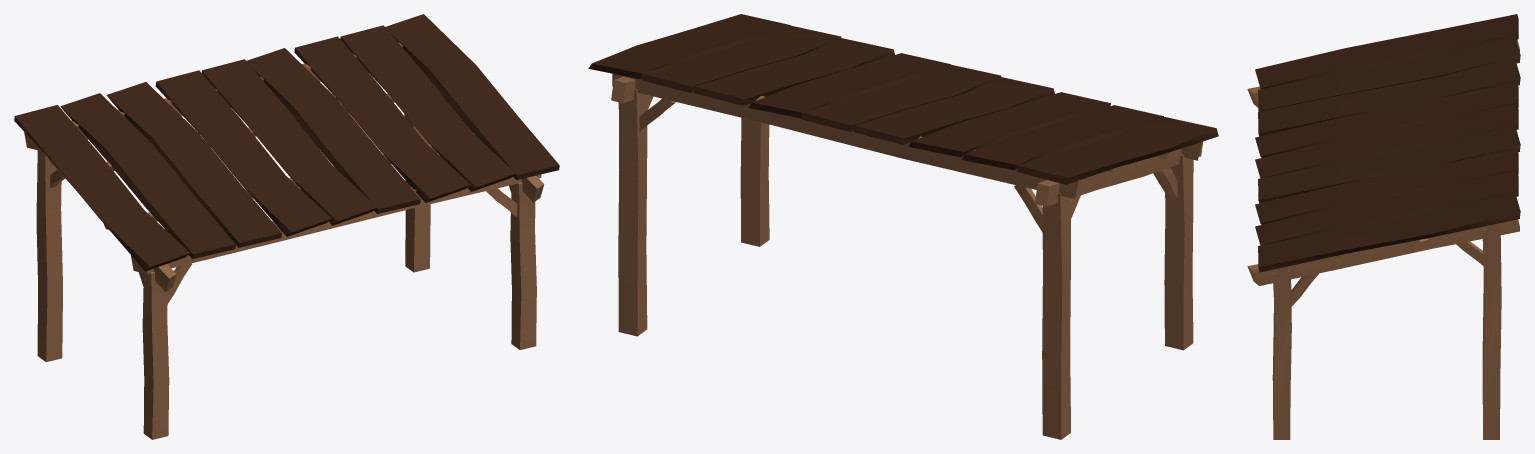
File: shelter.fbx
3 views of the same model, side by side, from view 1: azimuth 30°, elevation 25°; view 2: azimuth 150°, elevation 25°; view 3: azimuth 270°, elevation 25° (orthographic). The views are drawn at different scales.
Parts seen in each view (by area): view 1: shelter.027; view 2: shelter.027; view 3: shelter.027.
Boxes of the visible parts, bbox=[...] form: shelter.027: bbox=[14, 14, 559, 439]; shelter.027: bbox=[588, 14, 1218, 439]; shelter.027: bbox=[1247, 14, 1520, 439].
Bounding box in the file's own units: 917 × 494 × 521.
